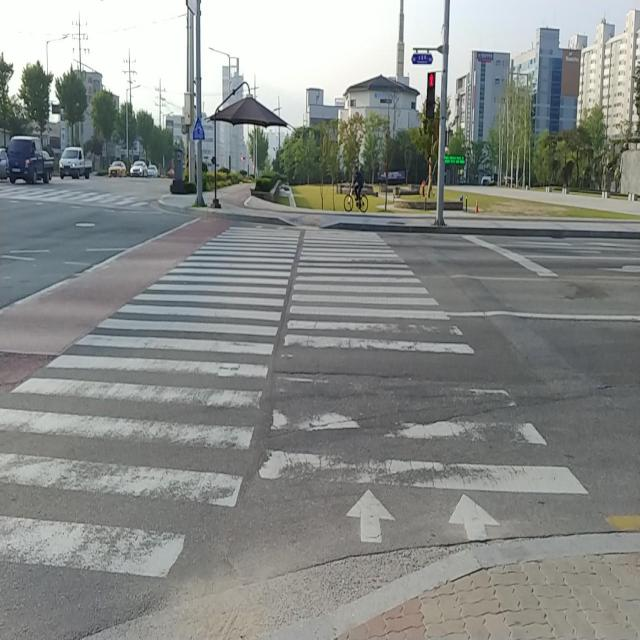빨간불: (426, 72, 436, 119)
횡단보도: (0, 227, 587, 572), (0, 184, 153, 208)
